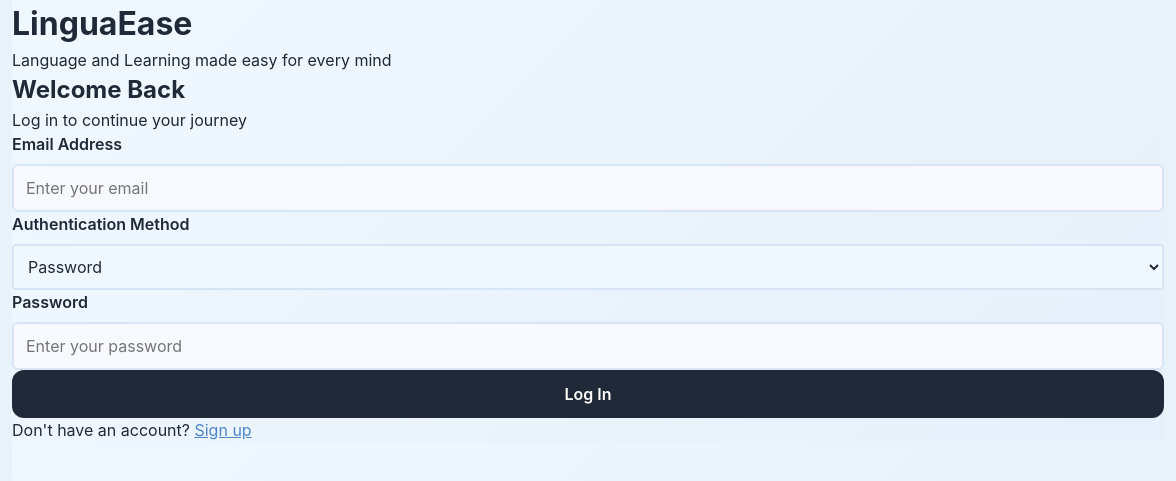
Test case: Login Component › should clear error when user types
The image size is (1176, 481).
# Trigger error
Type "wrong@example.com" into the field labelled "Email Address" at coordinates (588, 188), box [12,164,1164,212]
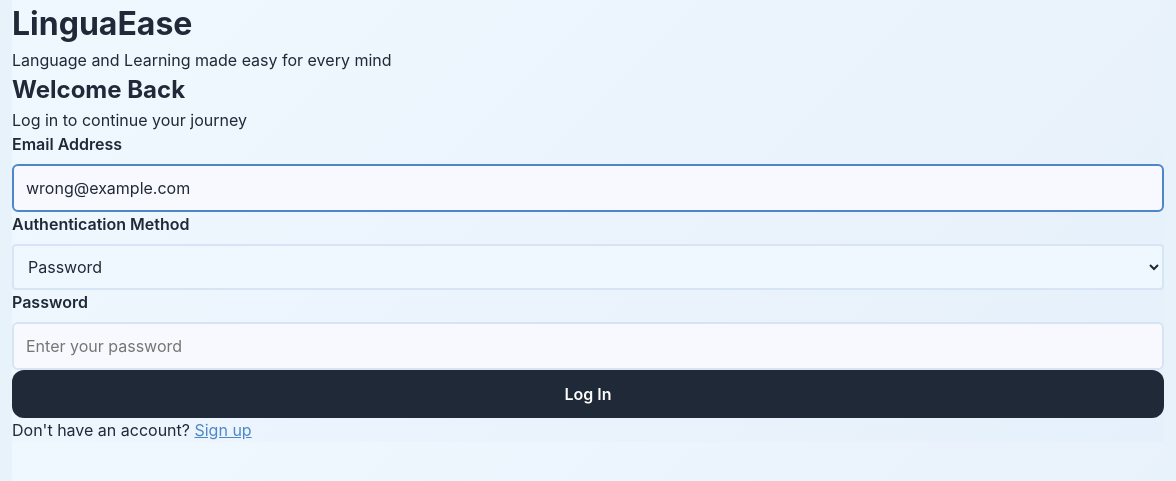
Type "wrongpassword" into the password field labelled "Password" at coordinates (588, 346), box [12,322,1164,370]
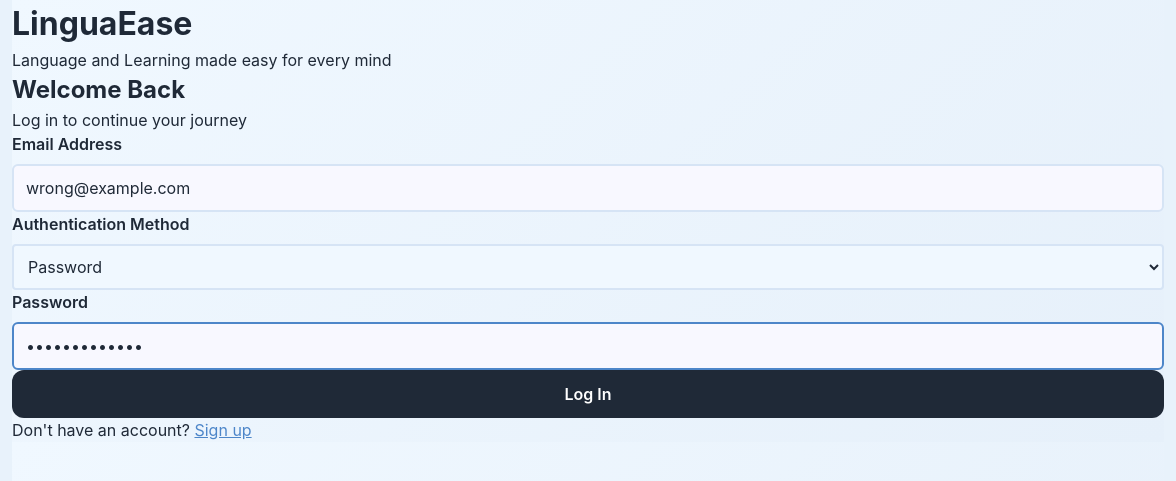
Click the button "Log In" at coordinates (588, 394), box [12,370,1164,418]
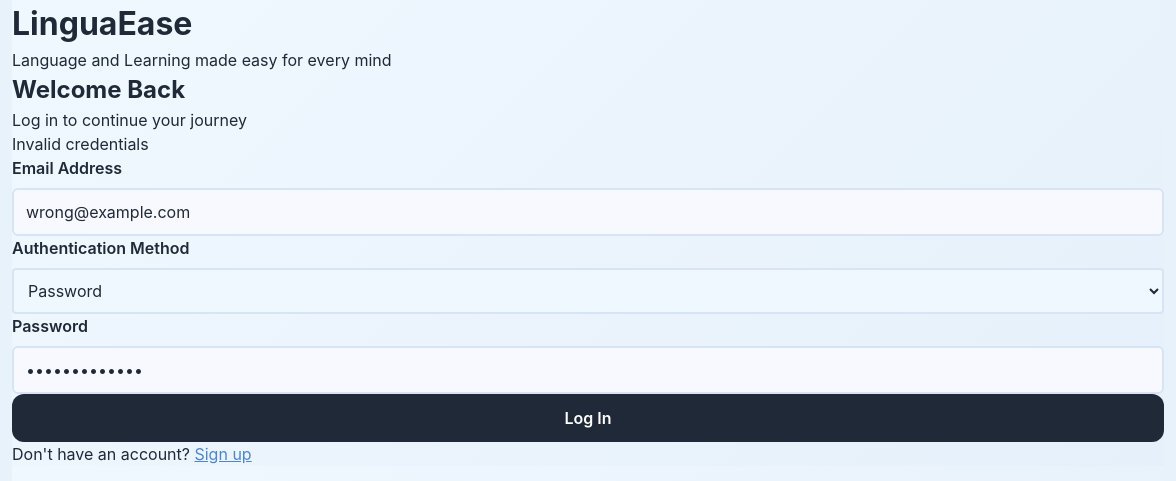
Expected: the text "Invalid credentials" is shown, [12,134,149,154]
# Type in email field to clear error
Type "a" into the field labelled "Email Address" at coordinates (588, 212), box [12,188,1164,236]
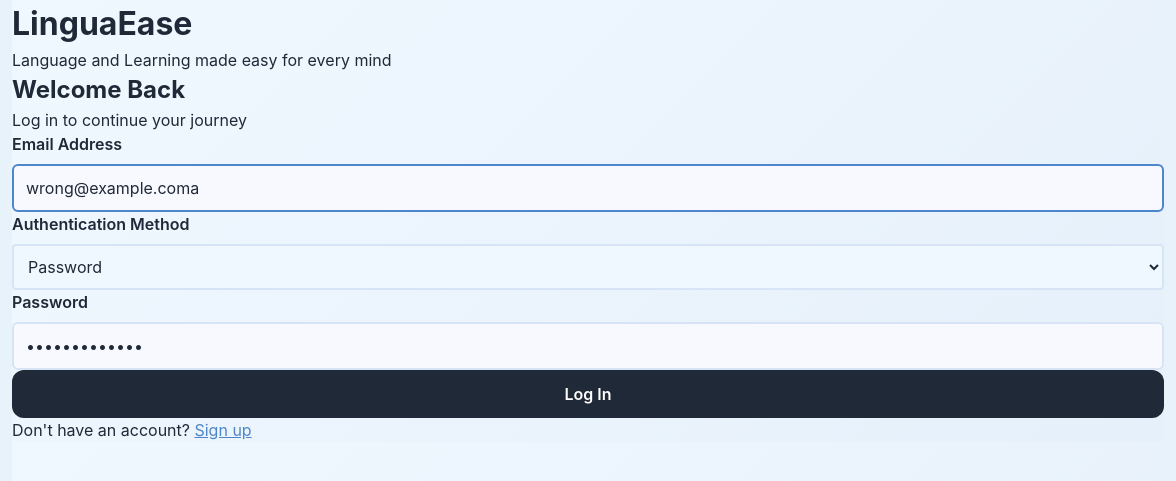
Expected: the text "Invalid credentials" is gone
